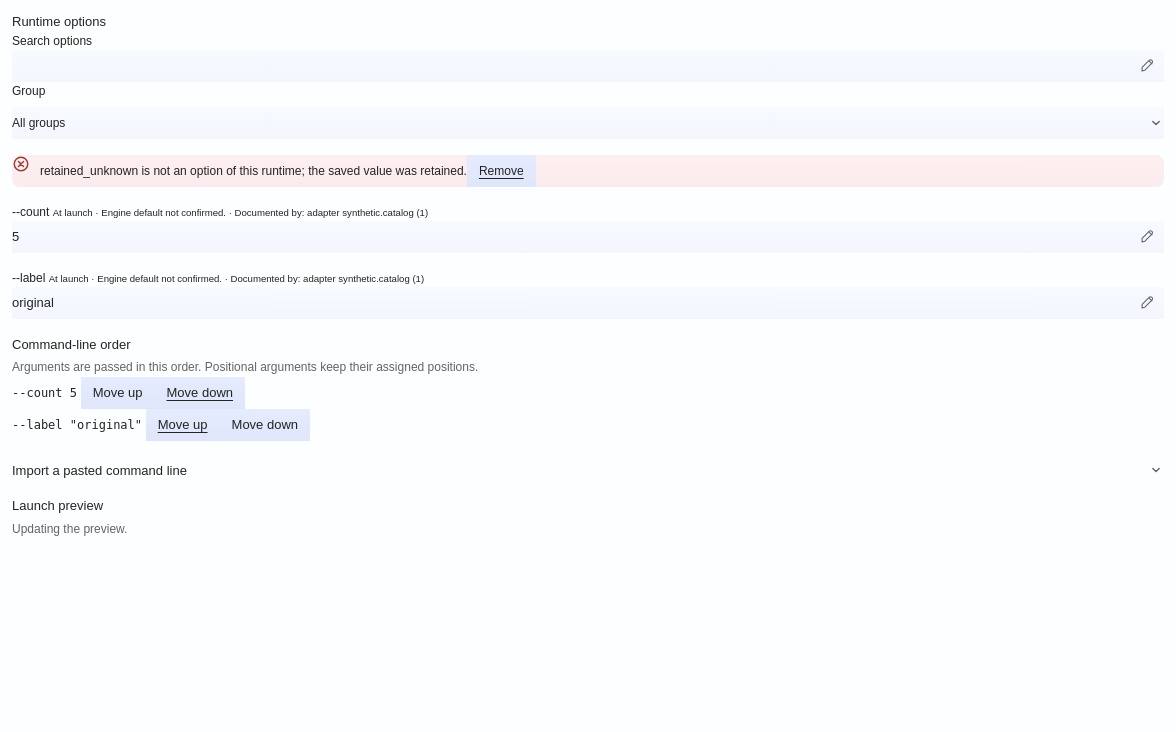
Test: standalone runtime command import ownership › does not restore an accepted plan when its schema owner changes away and back
This screenshot has width=1176, height=732.
Click the heading "Import a pasted command line". click: (99, 470)
box: [12,463,187,478]
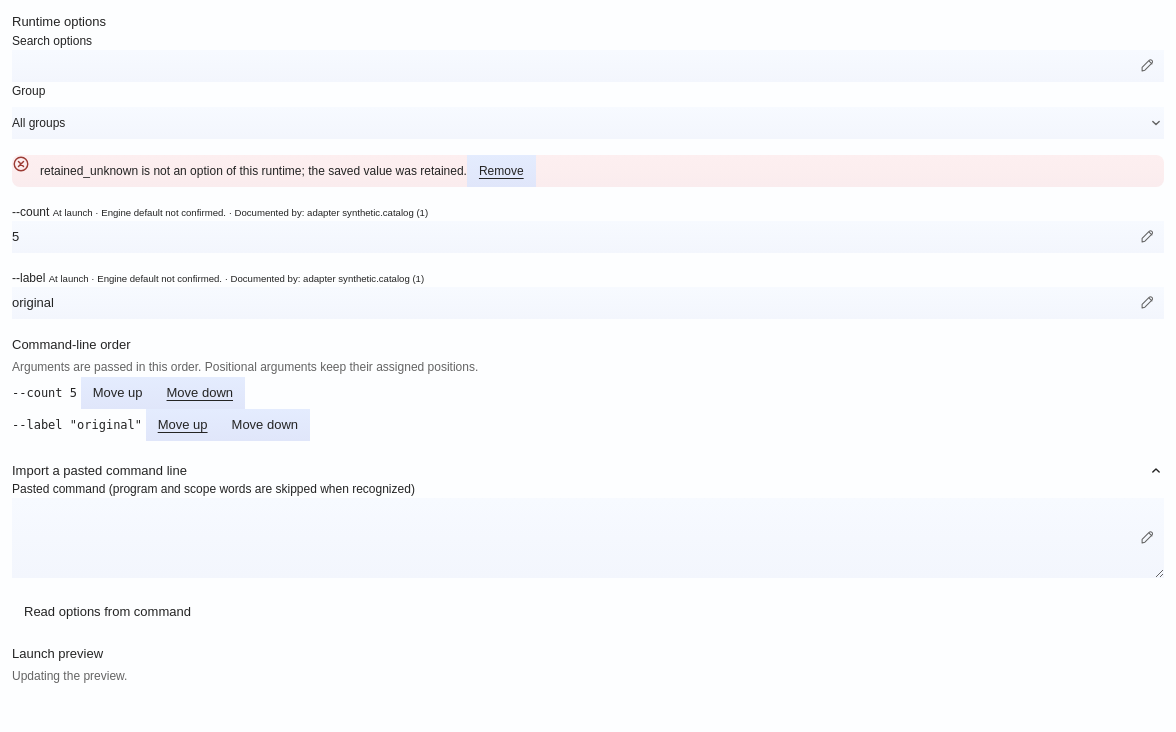
Type "--count 11" into the text box labelled "Pasted command". click: (588, 538)
box: [12,498,1164,578]
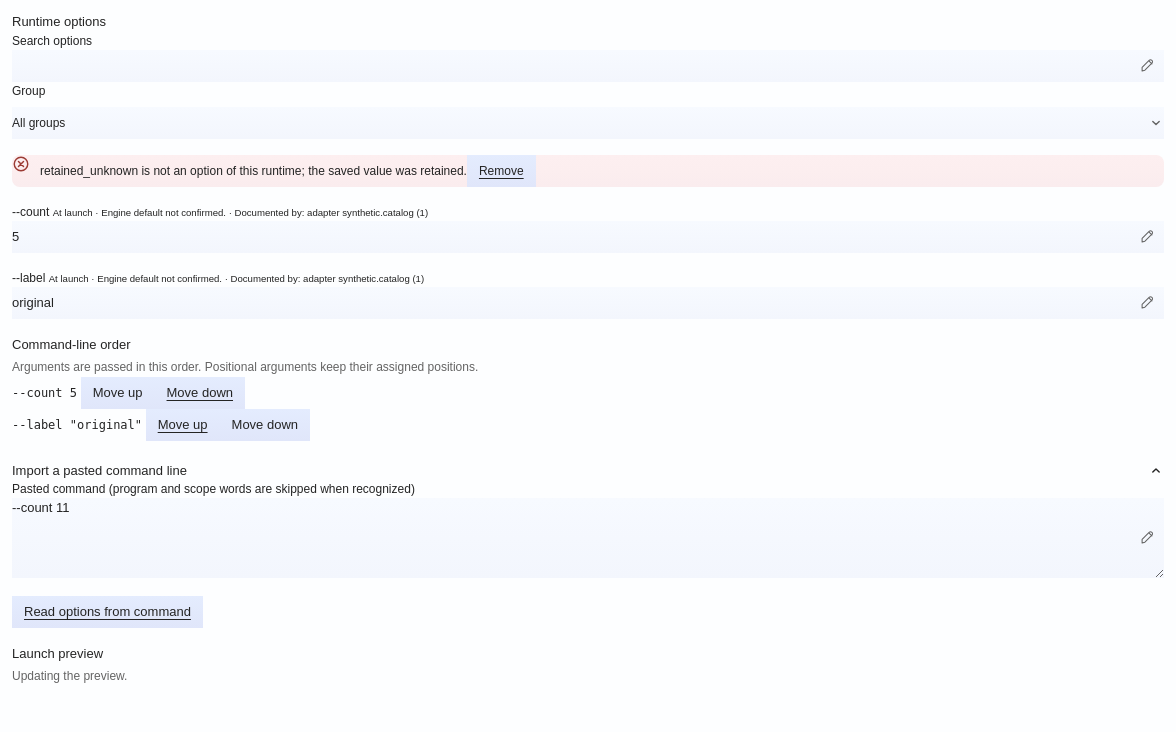
Click the button "Read options from command". click: (107, 612)
box: [12,596,203,628]
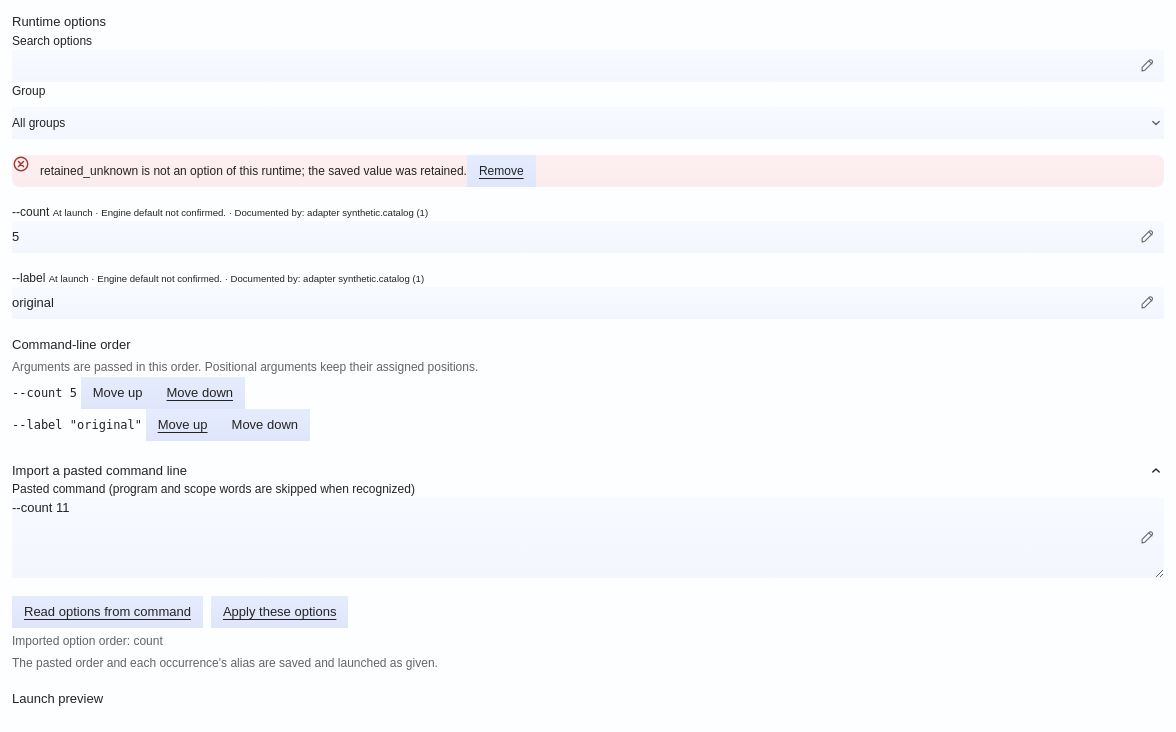
Expected: the text "Imported option order: count" is shown, [12,634,163,648]
